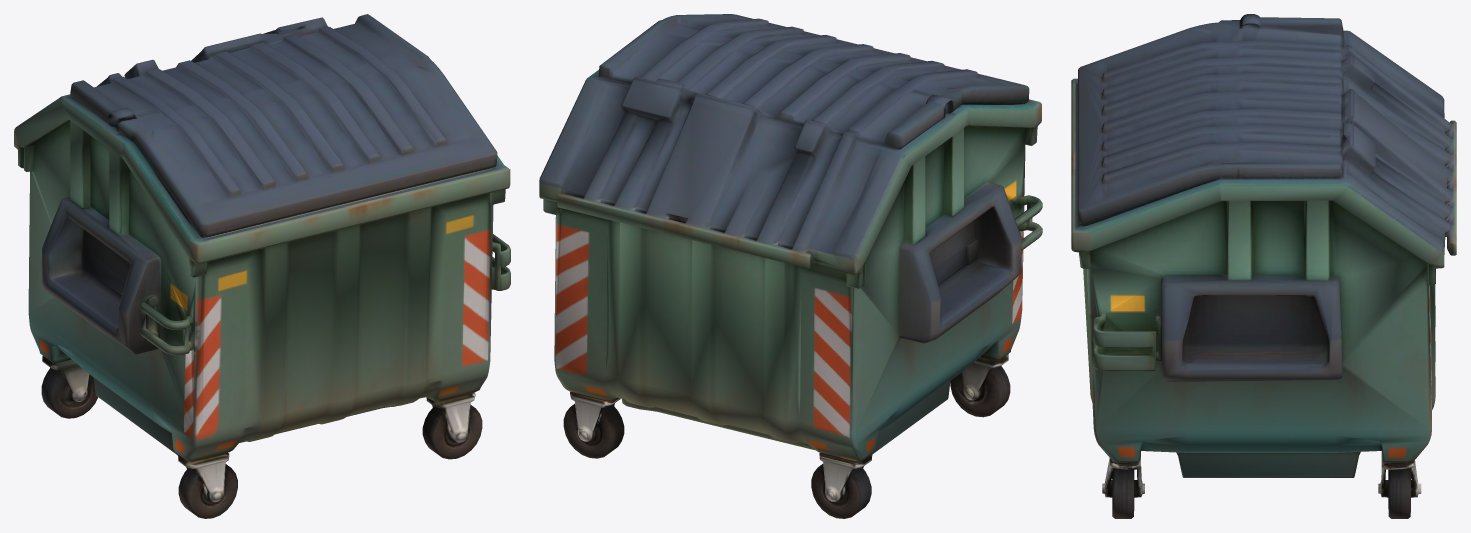
Rendered from large_dumpster_city_realistic_style_736a08e1_v1.glb.
3 views of the same model, side by side, from view 1: azimuth 30°, elevation 25°; view 2: azimuth 150°, elevation 25°; view 3: azimuth 270°, elevation 25° (orthographic).
Parts seen in each view (by area): view 1: mesh_input; view 2: mesh_input; view 3: mesh_input.
Boxes of the visible parts, x1,y1,x2,y2 form: mesh_input: [14, 14, 510, 518]; mesh_input: [539, 14, 1042, 518]; mesh_input: [1071, 14, 1456, 518].
Size of the model in its own units: 1.9 by 1.8 by 1.72.
1 material, 1 textured.
